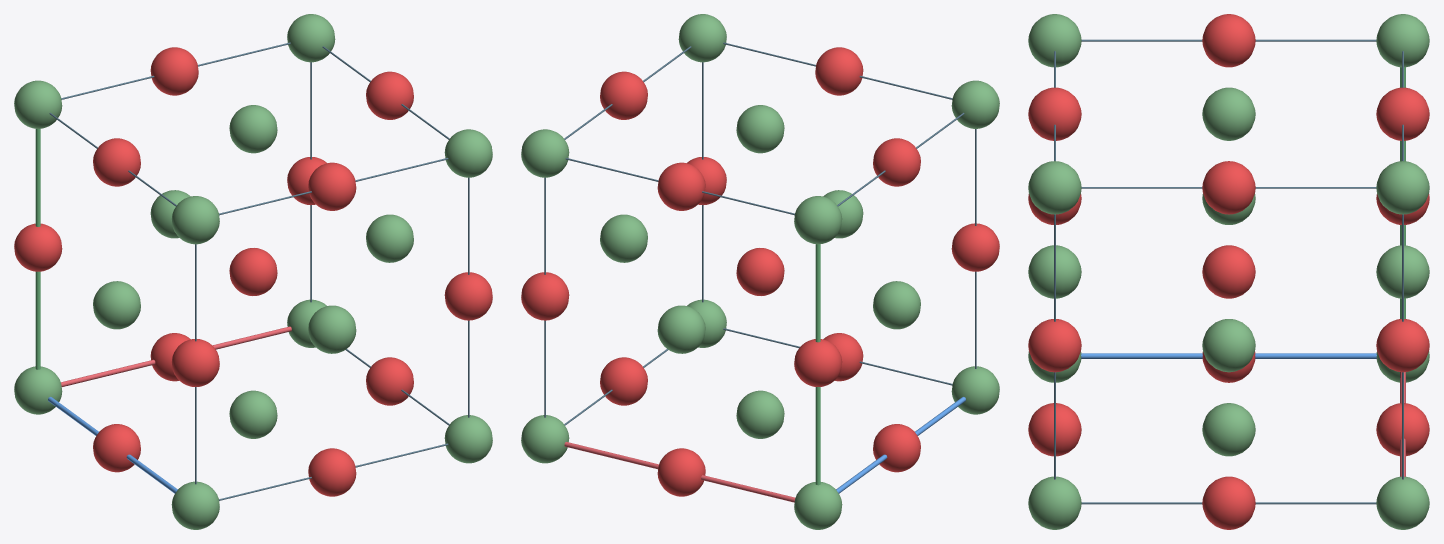
The model's file is chat-bunsenite.glb.
The picture shows the model from 3 angles, left to right: view 1: azimuth 30°, elevation 25°; view 2: azimuth 150°, elevation 25°; view 3: azimuth 270°, elevation 25°; orthographic projection. The views are drawn at different scales.
Parts seen in each view (by area): view 1: Ni · Ni · 1 (×14), O · O · 1 (×13), Ô mạng và các trục a, b, c; view 2: Ni · Ni · 1 (×14), O · O · 1 (×13), Ô mạng và các trục a, b, c; view 3: Ni · Ni · 1 (×14), O · O · 1 (×13), Ô mạng và các trục a, b, c.
Boxes of the visible parts, x1=… form: Ni · Ni · 1 (×14): x1=14, y1=14, x2=492, y2=529; O · O · 1 (×13): x1=14, y1=47, x2=492, y2=496; Ô mạng và các trục a, b, c: x1=35, y1=42, x2=469, y2=500; Ni · Ni · 1 (×14): x1=521, y1=14, x2=999, y2=529; O · O · 1 (×13): x1=521, y1=47, x2=999, y2=496; Ô mạng và các trục a, b, c: x1=544, y1=42, x2=976, y2=502; Ni · Ni · 1 (×14): x1=1028, y1=14, x2=1429, y2=529; O · O · 1 (×13): x1=1028, y1=14, x2=1429, y2=529; Ô mạng và các trục a, b, c: x1=1054, y1=39, x2=1405, y2=504.
Bounding box in the file's own units: 4.81 × 4.81 × 4.81.
